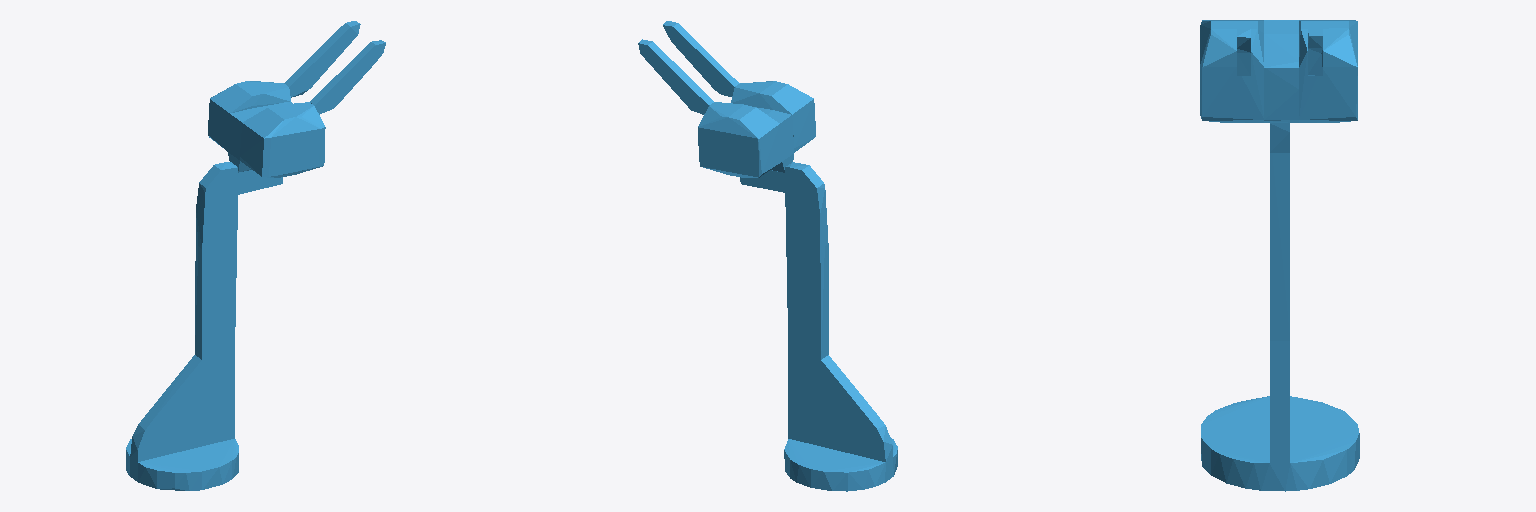
The robot description file, URDF, robot "universal_robot":
<?xml version="1.0" ?>
<!--FOR GRIPPER, THERE IS NO LINK INERTIA DEFINED HERE-->
<robot name="universal_robot" kind="PlaceHolder">
  <link name="placeholder">
    <visual>
      <geometry>
        <box size="0.01 0.01 0.01"/>
      </geometry>
      <material name="red">
        <color rgba="0 1 0 0.5"/>
      </material>
    </visual>
  </link>
  <joint name="joint_placeholder" type="fixed">
    <parent link="placeholder"/>
    <child link="11"/>
    <origin rpy="0 0.0 0.0" xyz="0.0 0.0 0.0"/>
    <axis xyz="0 -1 0"/>
  </joint>
  <link name="11">
  	<inertial>
       <origin rpy="0 0 0" xyz="0 0 0.00"/>
       <mass value=".01"/>
       <inertia ixx="1" ixy="0" ixz="0" iyy="1" iyz="0" izz="1"/>
    </inertial>
    <visual>
      <geometry>
        <mesh filename="motoman.obj"/>
      </geometry>
    </visual>
    <collision>
      <geometry>
        <mesh filename="motoman.obj"/>
      </geometry>
    </collision>
  </link>
  <joint name="joint_ee" type="fixed">
    <parent link="11"/>
    <child link="ee"/>
    <origin rpy="0 0 0" xyz="0.12 0 0.24"/>
    <limit effort="20" lower="0.00" upper="0.01" velocity="0.2"/>
  </joint>
  <link name="ee">
    <inertial>
      <origin rpy="0 0 1.57" xyz="0 0 0.0"/>
      <mass value=".01"/>
      <inertia ixx="1" ixy="0" ixz="0" iyy="1" iyz="0" izz="1"/>
   </inertial>
  </link>
</robot>

--- Render facts (derived) ---
The picture shows the robot from 3 angles, left to right: view 1: azimuth 30°, elevation 25°; view 2: azimuth 150°, elevation 25°; view 3: azimuth 270°, elevation 25°; orthographic projection.
Robot: universal_robot — 3 links, 2 joints (2 fixed); root link placeholder; default pose: every joint at zero.
Links seen in each view (by area): view 1: 11; view 2: 11; view 3: 11.
Boxes of the visible links, x1=… form: 11: x1=126, y1=21, x2=385, y2=490; 11: x1=638, y1=21, x2=897, y2=491; 11: x1=1200, y1=20, x2=1359, y2=491.
Bounding box of the posed robot: 0.1491 × 0.0612 × 0.2405 m (x, y, z).
1 mesh visuals loaded from 1 distinct referenced files (1 OBJ).